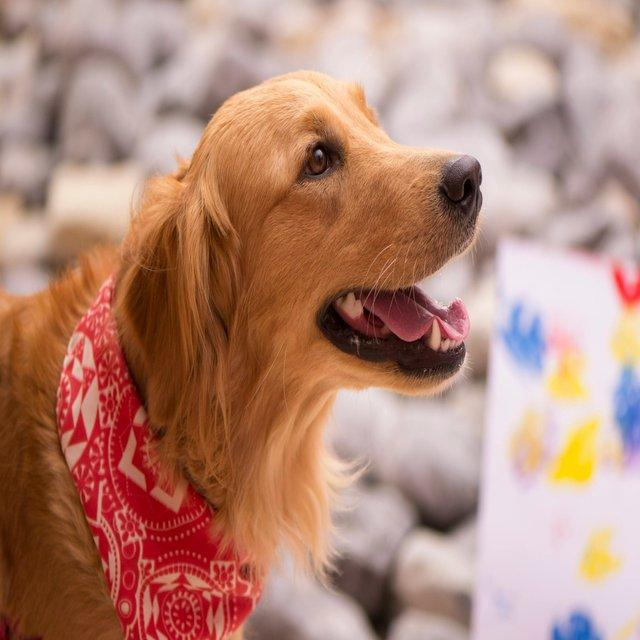retriever: (0, 67, 484, 638)
